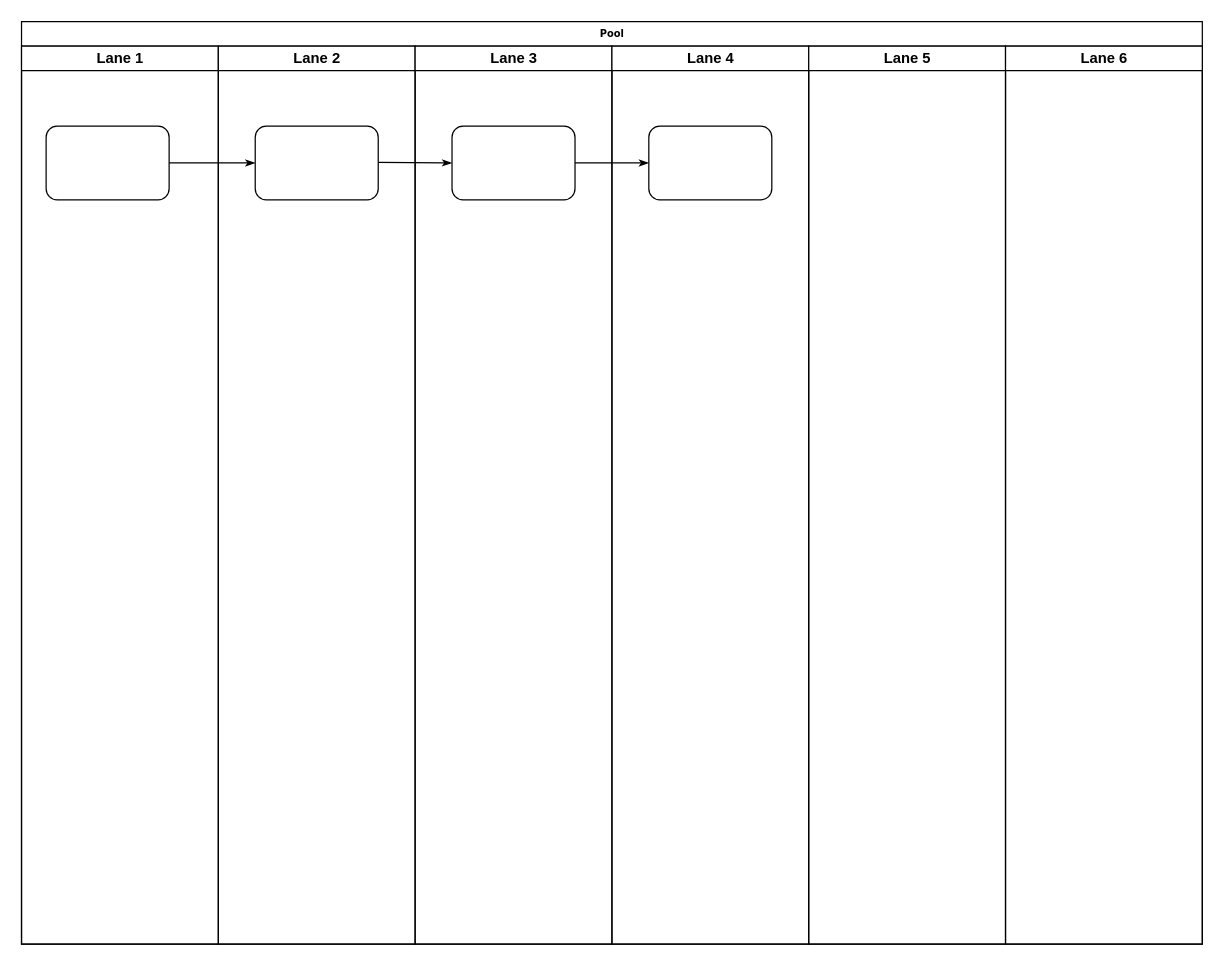
Some shapes in this 1224 by 966 pixel diagram are drawn without their labels. Each missing label, with the centre of its shape:
"Distribution—?" goes at point (710, 162).
"F(x)" goes at point (513, 162).
"General population (N>>1)" goes at point (107, 162).
"Sample" goes at point (316, 162).
